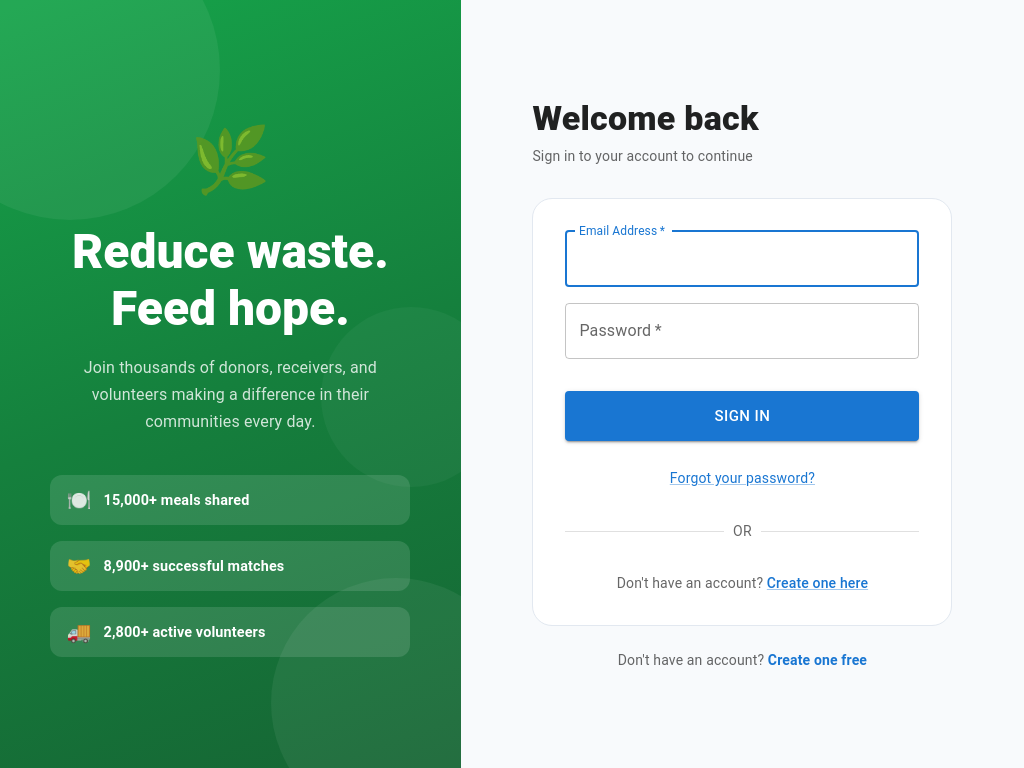
Test: Authentication Flow Integration Tests › Login Flow › should reject login with invalid credentials
# Fill login form with invalid credentials
Type "wrong@example.com" into the field labelled "Email Address *".
click(742, 259); type("wrong@example.com")  # box 565,231 -> 919,287
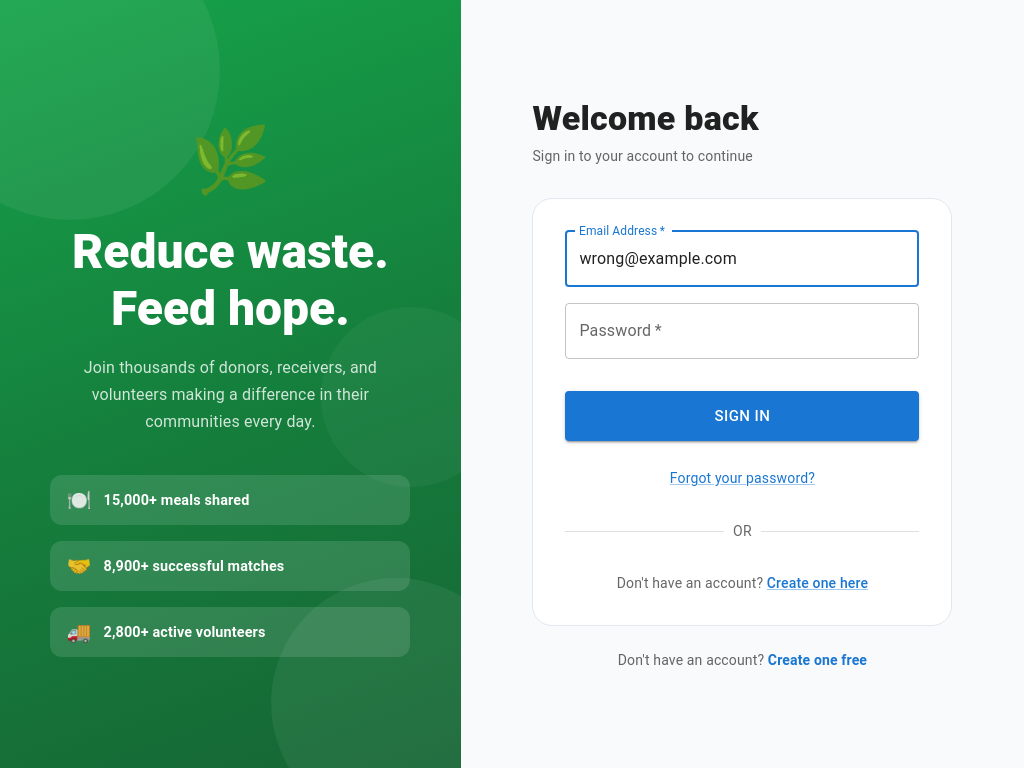
Type "WrongPassword" into the password field labelled "Password *".
click(742, 331); type("WrongPassword")  # box 565,303 -> 919,359
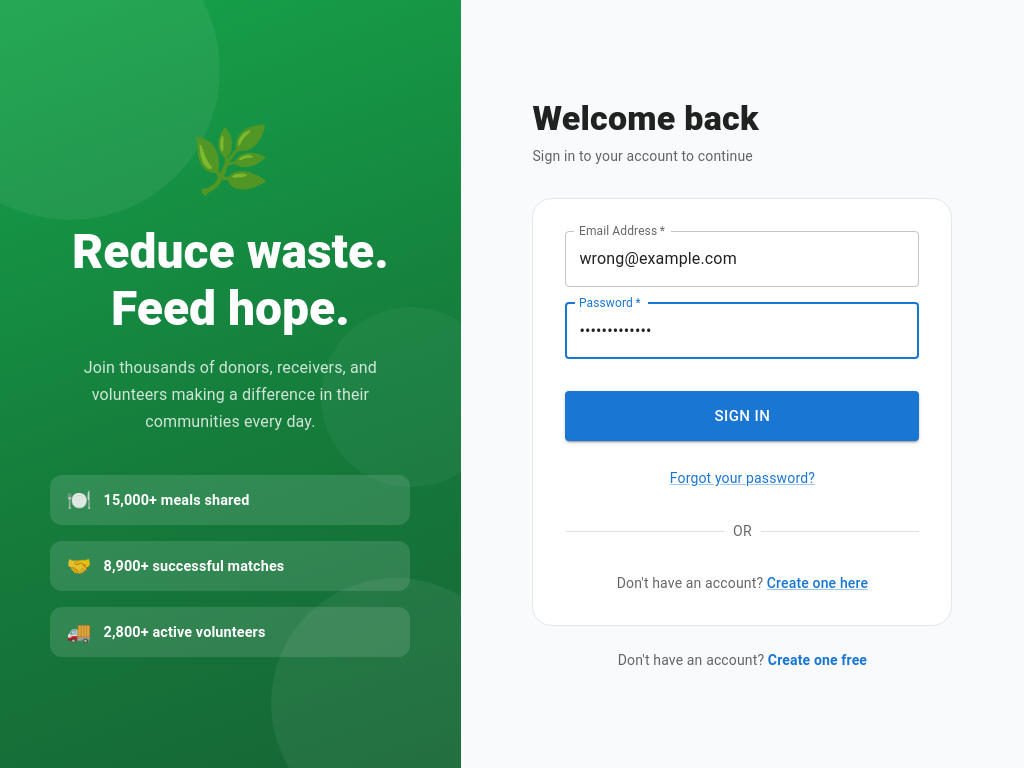
# Submit login
Click the button "Sign In".
click(742, 416)  # box 565,391 -> 919,441
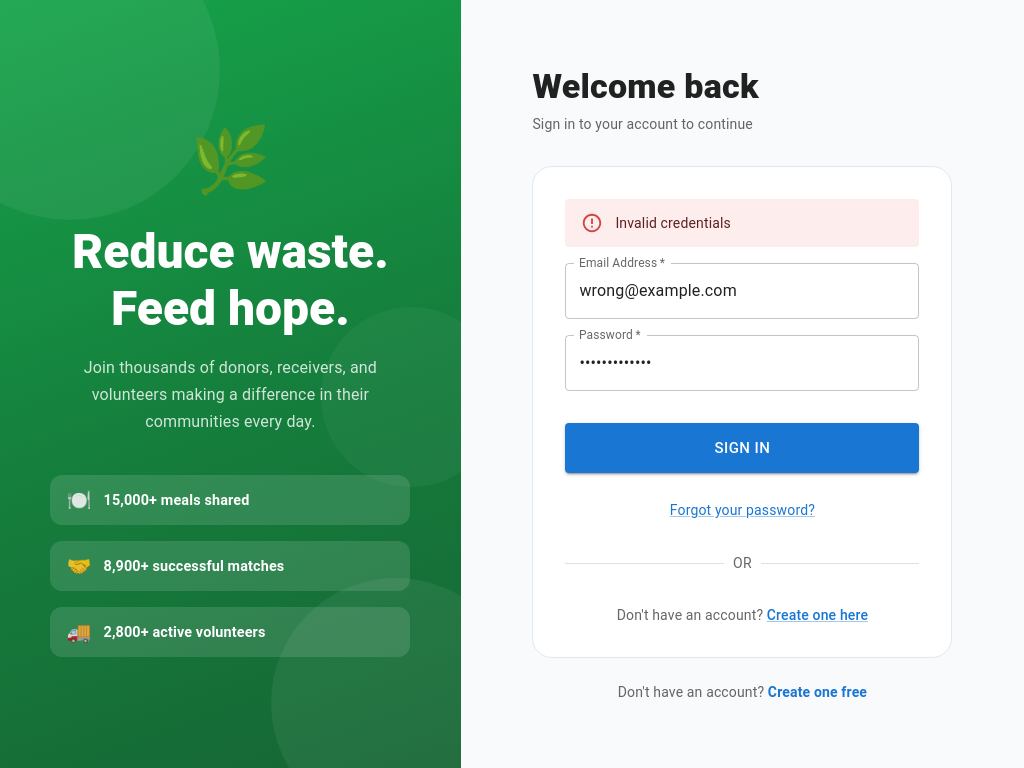
Check: the text "Invalid credentials" is shown, box 615,215 -> 731,231
